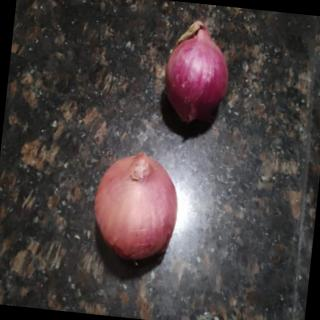Bawang Merah: (87, 147, 185, 266), (157, 16, 237, 126)
